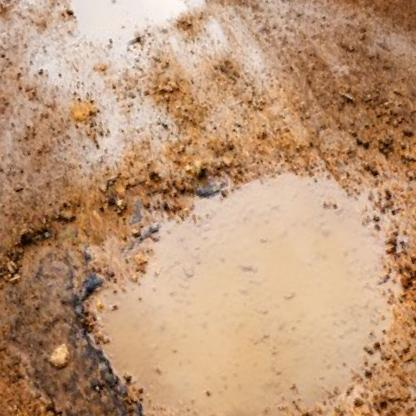pothole: (35, 116, 416, 416), (54, 0, 224, 70)
